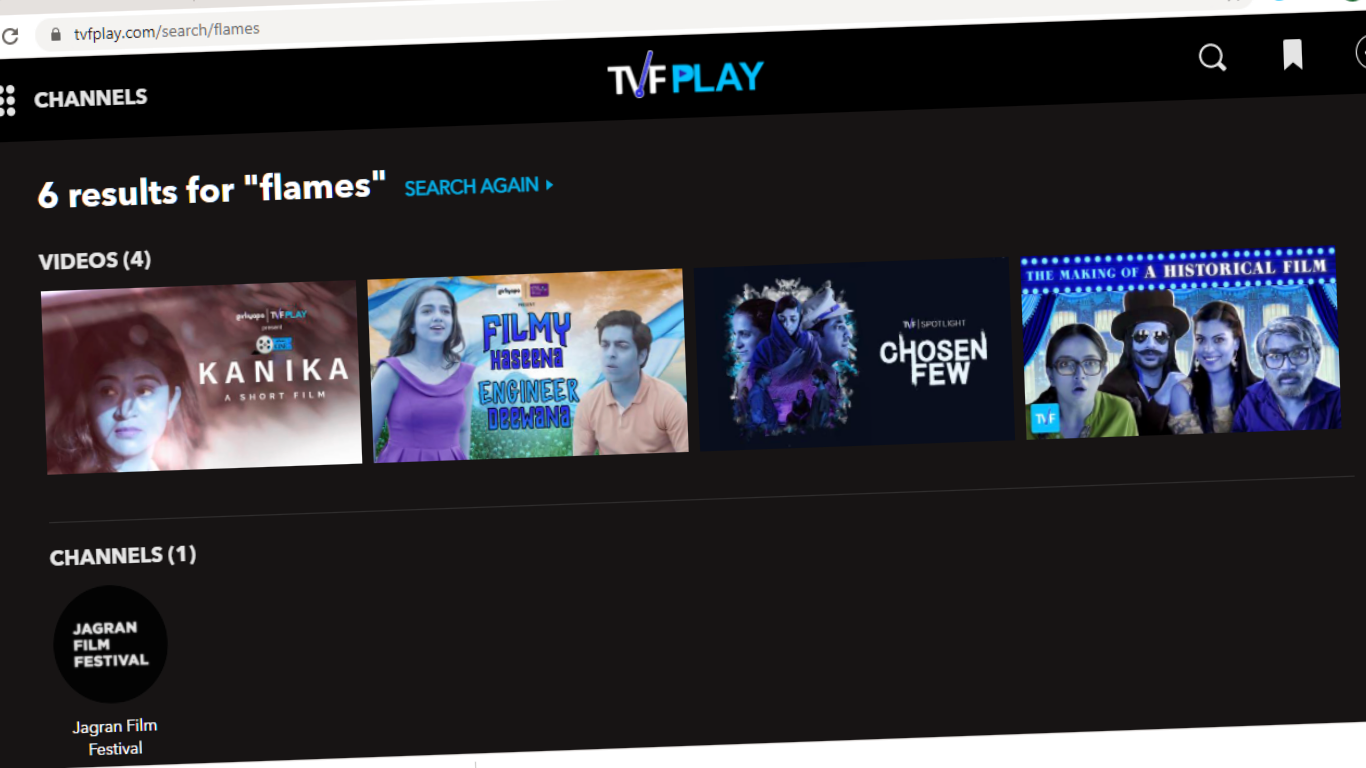resultsfound: (22, 166, 656, 214)
searchicon: (1189, 23, 1244, 94)
